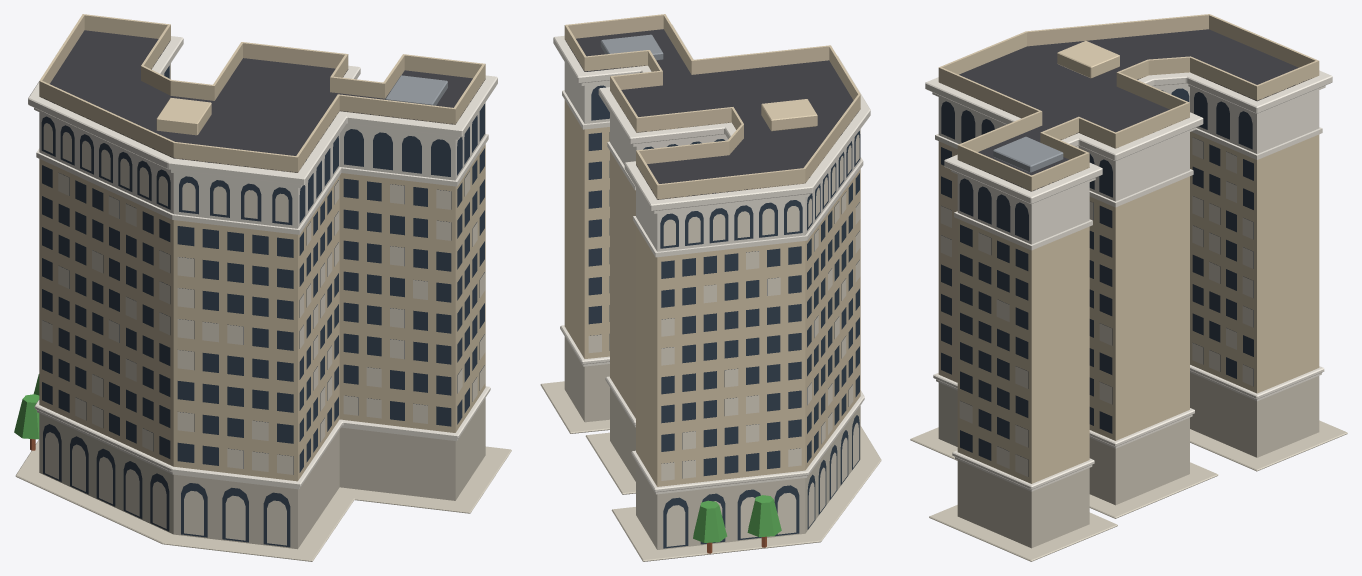
Rendered from hearst-building.glb.
The picture shows the model from 3 angles, left to right: view 1: azimuth 30°, elevation 25°; view 2: azimuth 150°, elevation 25°; view 3: azimuth 270°, elevation 25°; orthographic projection. The views are drawn at different scales.
Parts seen in each view (by area): view 1: hearst-building_body, hearst-building_night_glow; view 2: hearst-building_body, hearst-building_night_glow; view 3: hearst-building_body, hearst-building_night_glow.
Boxes of the visible parts, box(x1,y1,x2,y2) form: hearst-building_body: box(14, 14, 511, 561); hearst-building_night_glow: box(41, 123, 485, 545); hearst-building_body: box(540, 14, 881, 561); hearst-building_night_glow: box(588, 134, 860, 546); hearst-building_body: box(910, 14, 1347, 561); hearst-building_night_glow: box(940, 137, 1253, 476).
Size of the model in its own units: 53.19 by 50.2 by 53.34.
